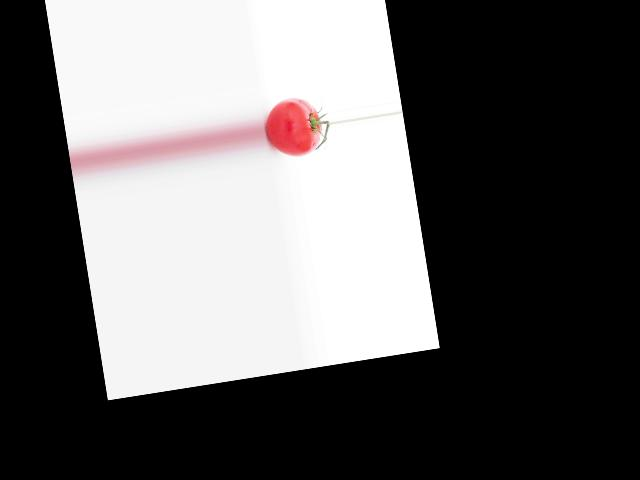tomato: (261, 93, 325, 160)
